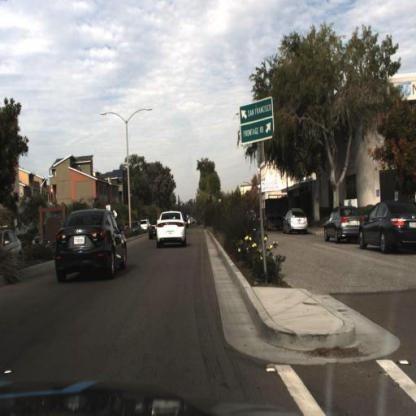car: (50, 201, 136, 285), (357, 194, 416, 259), (152, 202, 194, 258), (323, 202, 367, 249), (280, 203, 311, 236), (264, 194, 282, 234), (149, 212, 163, 246), (148, 210, 158, 242)
truck: (265, 198, 288, 231)
